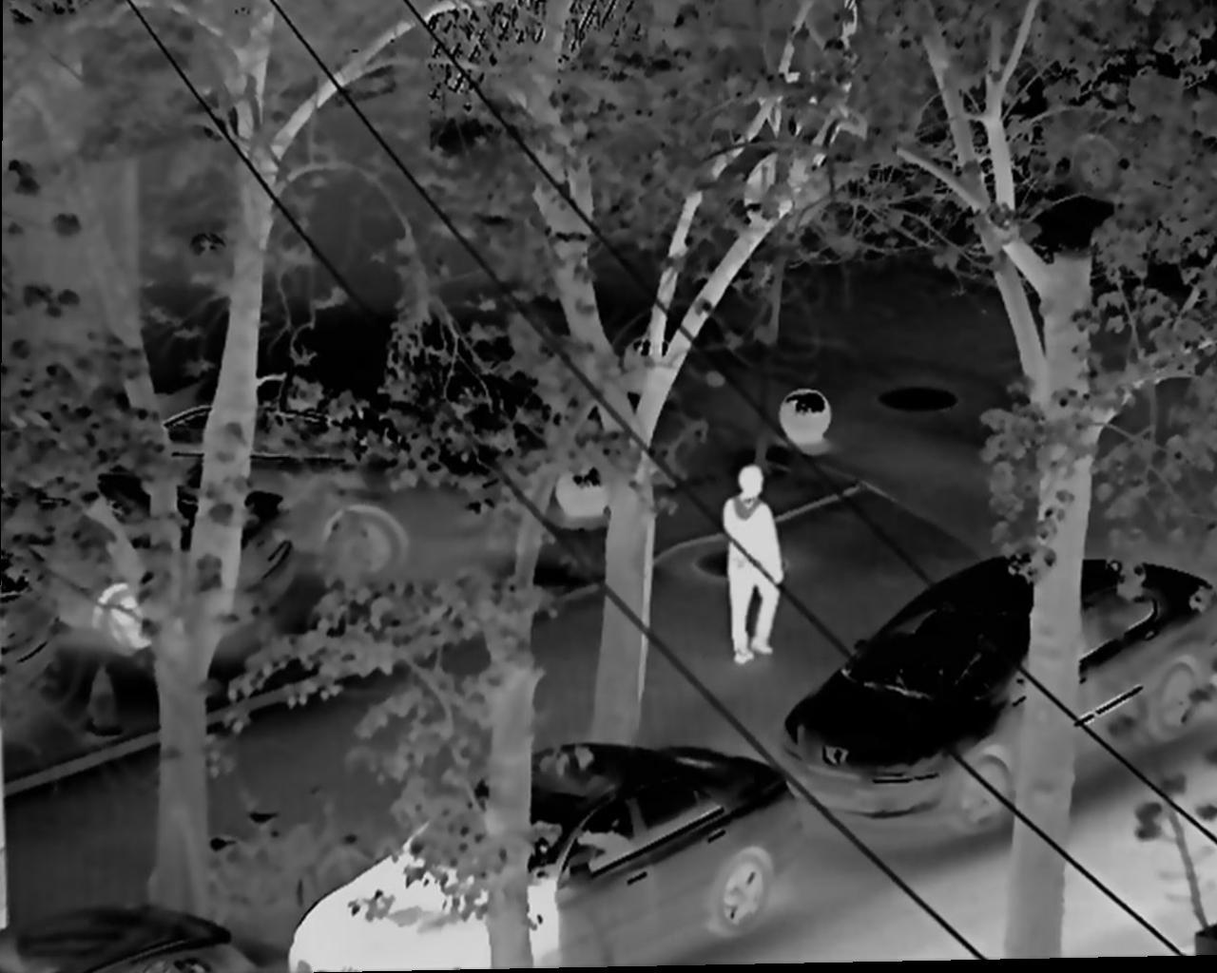person: (720, 463, 778, 664)
